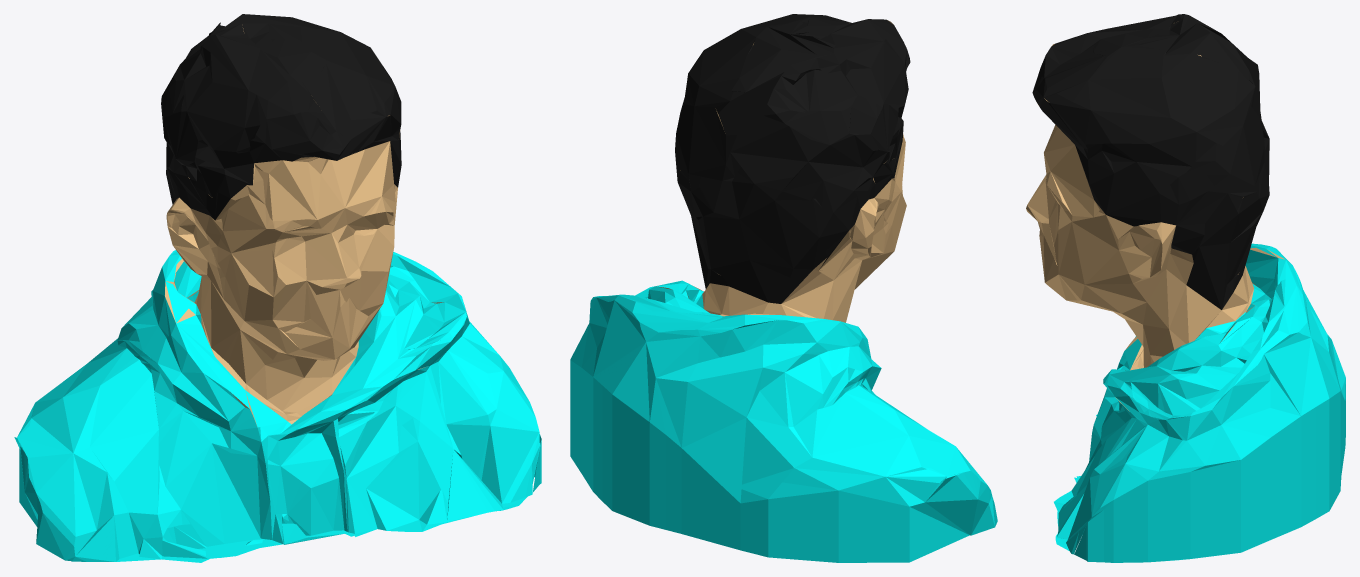
Rendered from My_Phung.glb.
3 views of the same model, side by side, from view 1: azimuth 30°, elevation 25°; view 2: azimuth 150°, elevation 25°; view 3: azimuth 270°, elevation 25° (orthographic). The views are drawn at different scales.
Parts seen in each view (by area): view 1: My_Phung (2); view 2: My_Phung (2); view 3: My_Phung (2).
Part boxes in pixels (box(x1,y1,x2,y2)): My_Phung (2): box(14, 14, 541, 562); My_Phung (2): box(570, 14, 997, 562); My_Phung (2): box(1026, 14, 1345, 562).
Bounding box in the file's own units: 4.12 × 4.25 × 2.81.
